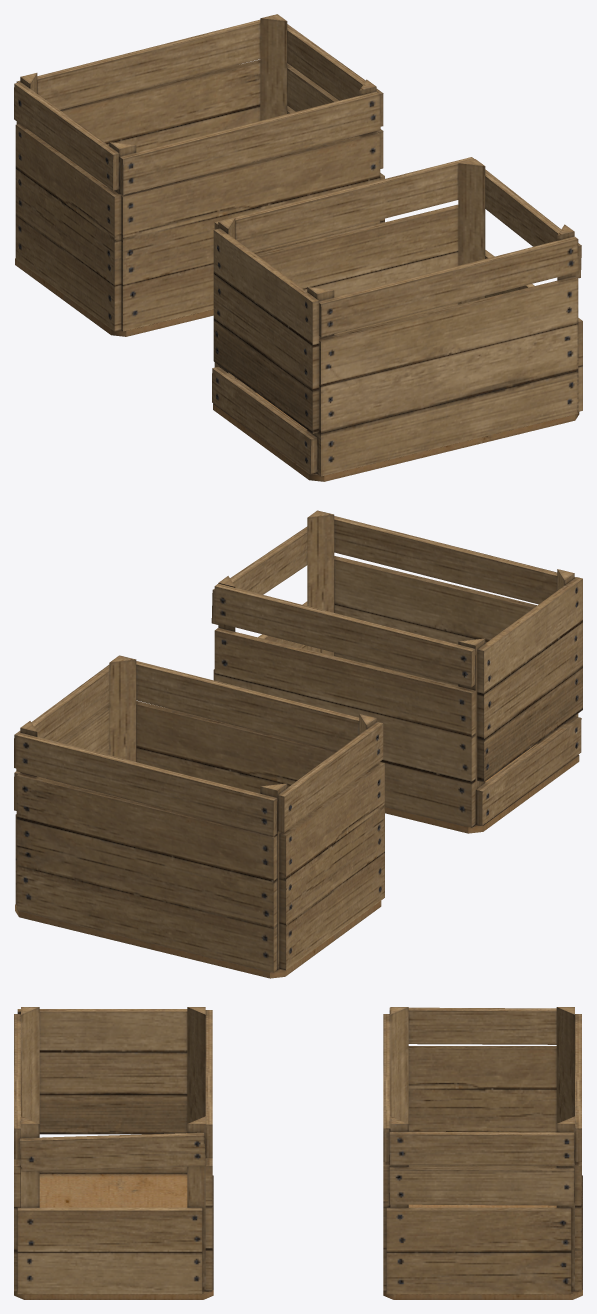
Rendered from mk_outbox.glb.
3 views of the same model, one above another, from view 1: azimuth 30°, elevation 25°; view 2: azimuth 150°, elevation 25°; view 3: azimuth 270°, elevation 25° (orthographic). The views are drawn at different scales.
Visible parts, largest first — view 1: mesh; view 2: mesh; view 3: mesh.
Boxes of the visible parts, <box> form: mesh: <box>14,14,582,481</box>; mesh: <box>14,510,582,978</box>; mesh: <box>14,1007,582,1299</box>.
Bounding box in the file's own units: 0.3293 × 0.216 × 0.6438.
Materials: 1 (1 with a texture image).
